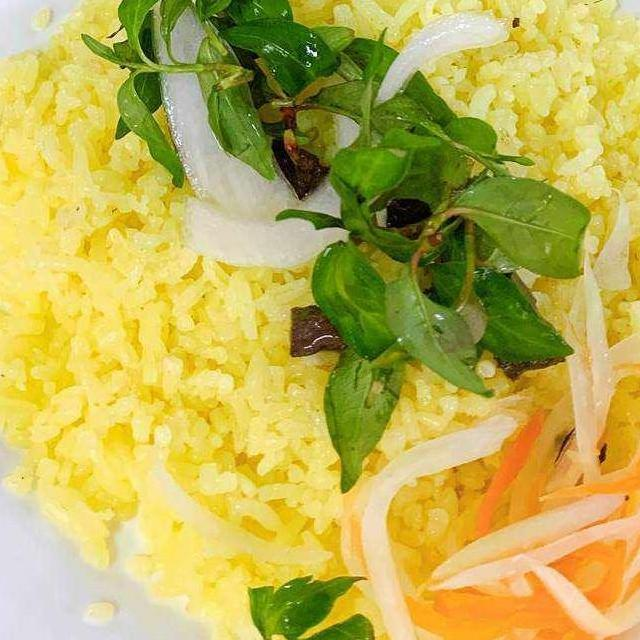com: (0, 22, 361, 640), (206, 0, 640, 201), (526, 114, 640, 411)
dua chua: (357, 297, 640, 640)
rau ram: (273, 22, 597, 498), (73, 0, 536, 193), (176, 566, 380, 640)
